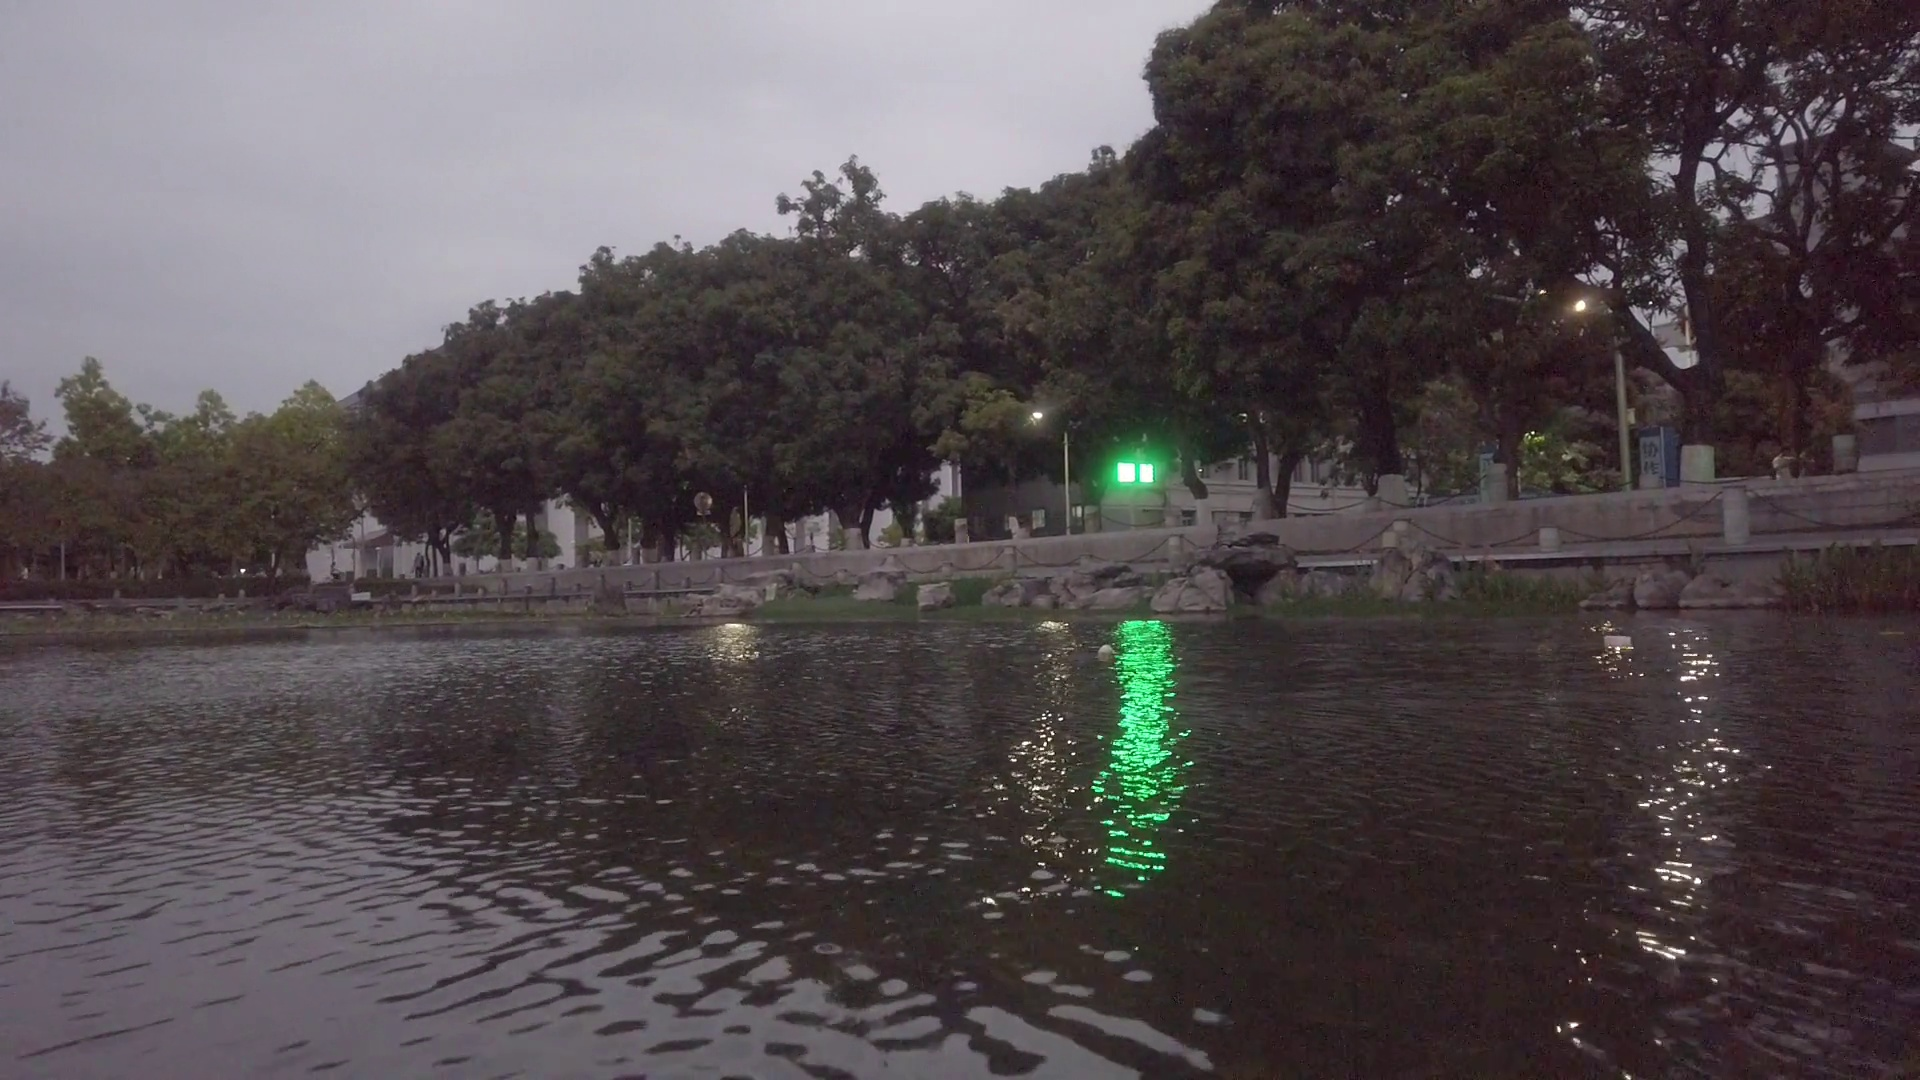bottle: (1095, 640, 1113, 657)
carton: (1604, 633, 1633, 650)
